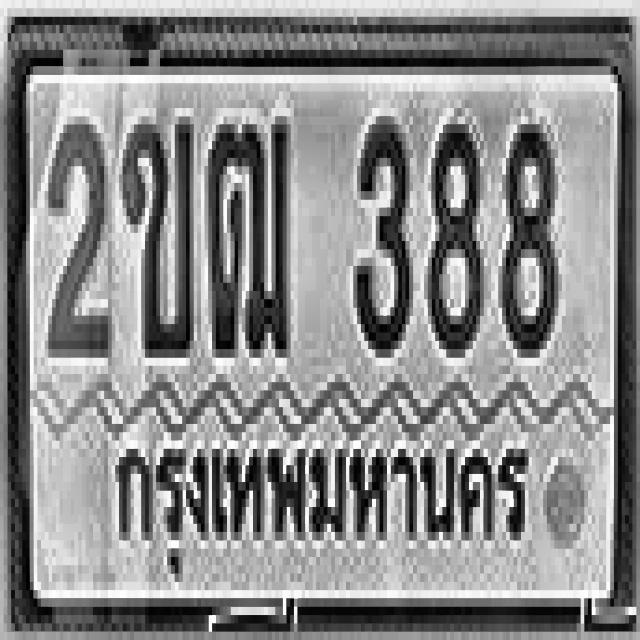license-plate: (13, 32, 632, 626)
